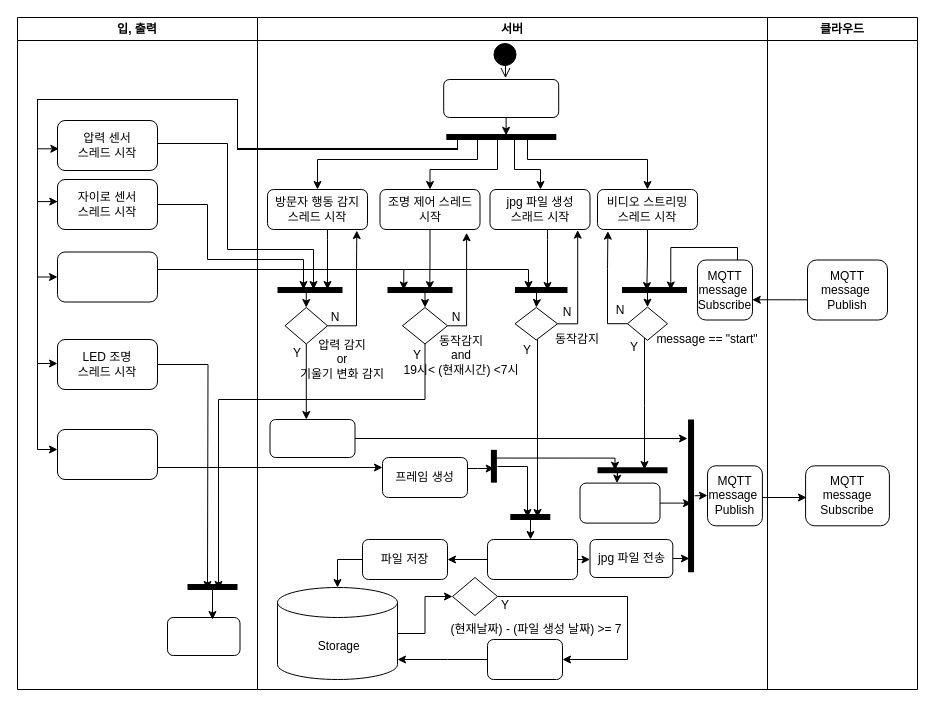
Some shapes in this 935 by 707 pixel diagram are drawn without their labels. Here are the shapes that lost their labels. From the top down, the centre of each, then its label:
pixel 501 98: 메인 스레드 시작
pixel 107 276: 동작감지(PIR) 센서 스레드 시작
pixel 107 454: 카메라 스레드 시작
pixel 312 438: 감지 시각 전송
pixel 619 502: 프레임 전송
pixel 532 559: jpg 파일로 변환
pixel 203 636: LED 조명 On
pixel 524 659: 사진 삭제
